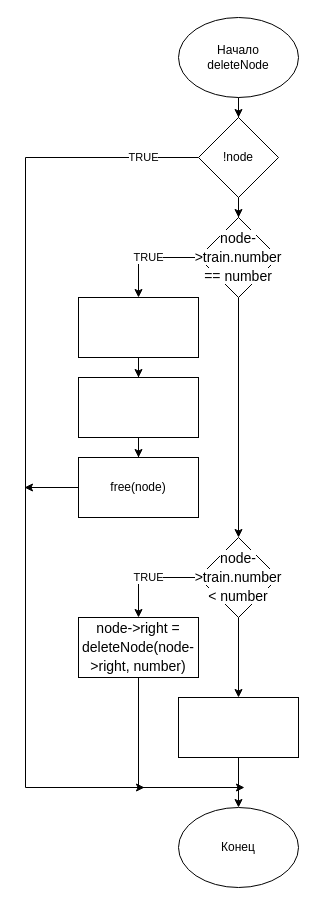
The diagram is 316 pixels wide and 905 high, and some of its shapes have lost their labels. Each missing label, with the centre of its shape:
left = addNode(left, node->right): pixel 138 407
left = node->left: pixel 138 327
node->left = deleteNode(node->left, number): pixel 238 727
